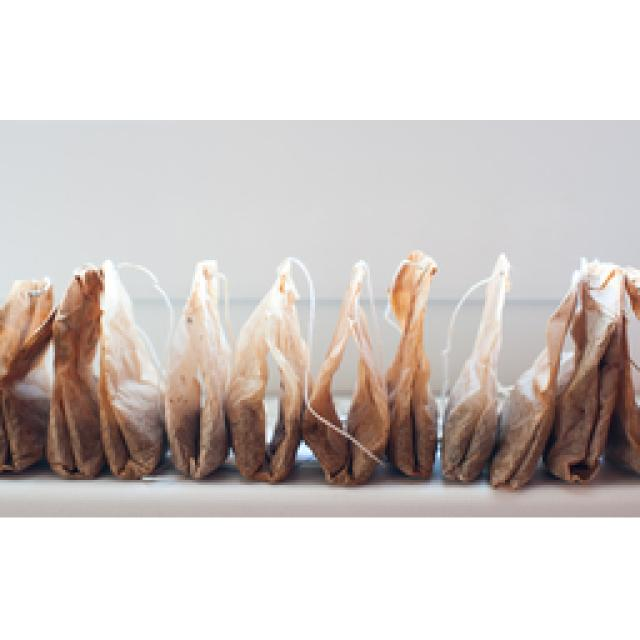tea-bags: (0, 250, 438, 482), (218, 250, 435, 482), (442, 252, 638, 488), (440, 255, 638, 488), (448, 305, 462, 335), (462, 288, 472, 305)
